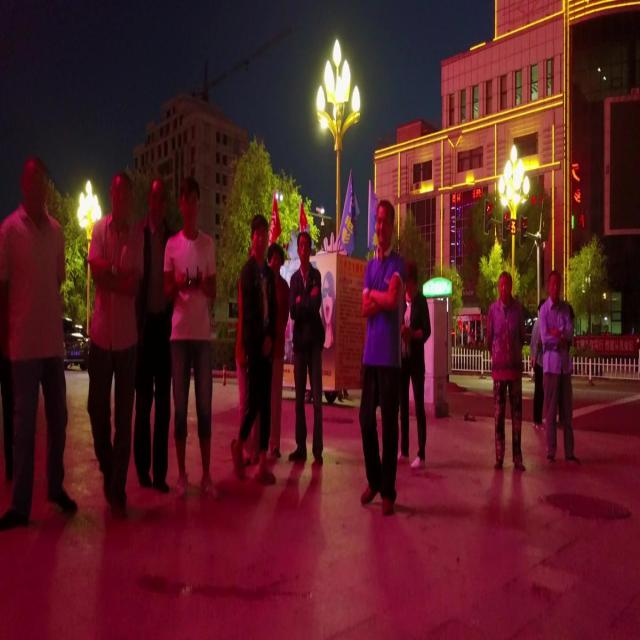car: (62, 316, 90, 371)
person: (0, 156, 78, 529), (87, 171, 144, 518), (163, 176, 219, 500), (359, 199, 408, 515), (230, 213, 278, 484), (133, 177, 174, 492), (288, 231, 325, 465), (486, 270, 526, 470), (539, 269, 580, 462), (397, 260, 431, 468), (266, 242, 290, 458)
tree: (567, 233, 608, 337)
